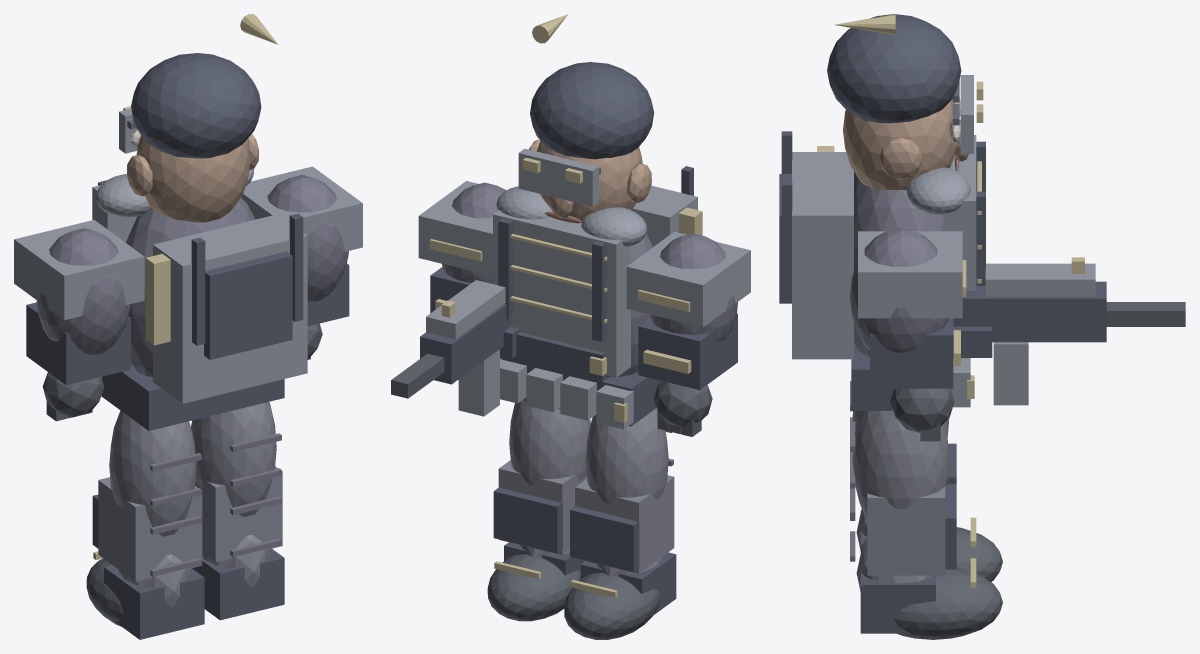
Rendered from lumen.glb.
3 views of the same model, side by side, from view 1: azimuth 30°, elevation 25°; view 2: azimuth 150°, elevation 25°; view 3: azimuth 270°, elevation 25° (orthographic). The views are drawn at different scales.
Parts seen in each view (by area): view 1: RigRoot_Model, LeftLegPivot_Model, HeadPivot_Model, LeftArmPivot_Model, RightLegPivot_Model, RightArmPivot_Model; view 2: RigRoot_Model, LeftLegPivot_Model, LeftArmPivot_Model, HeadPivot_Model, RightLegPivot_Model, RightArmPivot_Model; view 3: RigRoot_Model, RightLegPivot_Model, HeadPivot_Model, RightArmPivot_Model, LeftLegPivot_Model.
Part boxes in pixels (x1=…): RigRoot_Model: x1=92, y1=169, x2=307, y2=430; LeftLegPivot_Model: x1=86, y1=410, x2=204, y2=639; HeadPivot_Model: x1=119, y1=14, x2=278, y2=222; LeftArmPivot_Model: x1=14, y1=220, x2=144, y2=421; RightLegPivot_Model: x1=191, y1=402, x2=284, y2=620; RightArmPivot_Model: x1=241, y1=166, x2=362, y2=359; RigRoot_Model: x1=391, y1=166, x2=702, y2=429; LeftLegPivot_Model: x1=564, y1=408, x2=676, y2=639; LeftArmPivot_Model: x1=626, y1=231, x2=750, y2=436; HeadPivot_Model: x1=518, y1=14, x2=654, y2=223; RightLegPivot_Model: x1=487, y1=400, x2=590, y2=621; RightArmPivot_Model: x1=418, y1=181, x2=505, y2=358; RigRoot_Model: x1=779, y1=131, x2=1185, y2=410; RightLegPivot_Model: x1=850, y1=411, x2=1002, y2=639; HeadPivot_Model: x1=827, y1=14, x2=983, y2=190; RightArmPivot_Model: x1=850, y1=228, x2=966, y2=441; LeftLegPivot_Model: x1=850, y1=381, x2=1002, y2=581.
Size of the model in its own units: 1.35 by 2.57 by 1.51.
